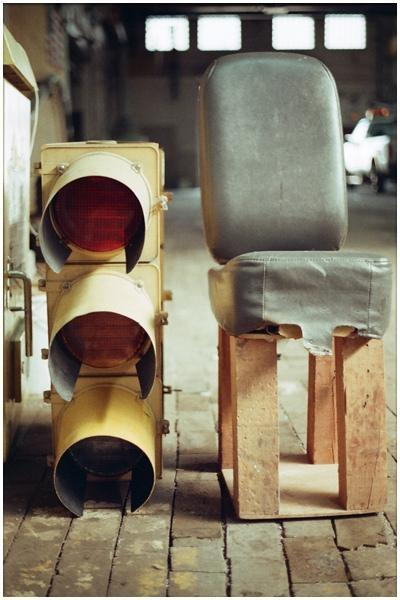car: (343, 107, 400, 194)
